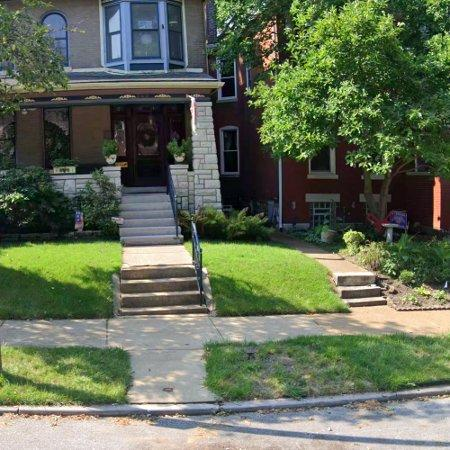stairs: (120, 266, 207, 315), (120, 193, 182, 247), (334, 272, 387, 307)
